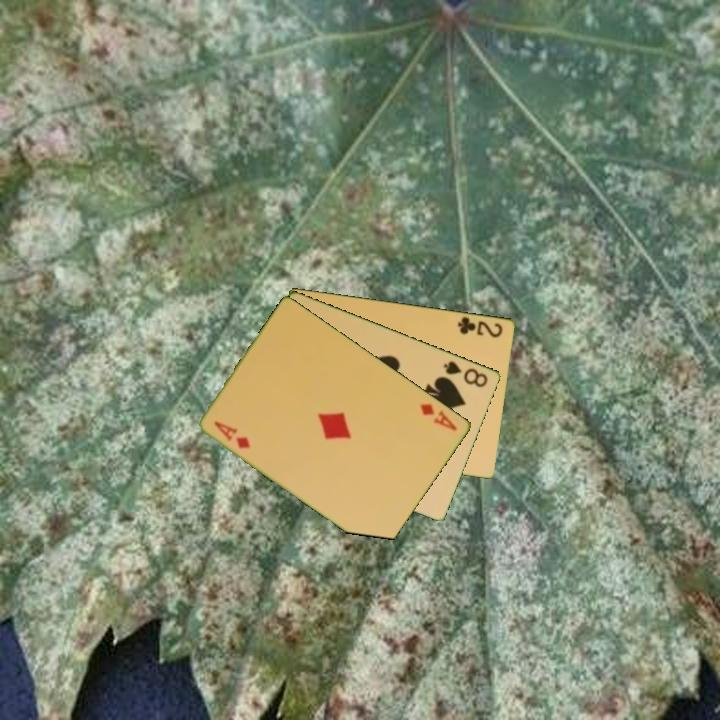2c: (454, 313, 506, 340)
8s: (440, 357, 491, 390)
Ad: (417, 399, 460, 434), (211, 417, 254, 451)
